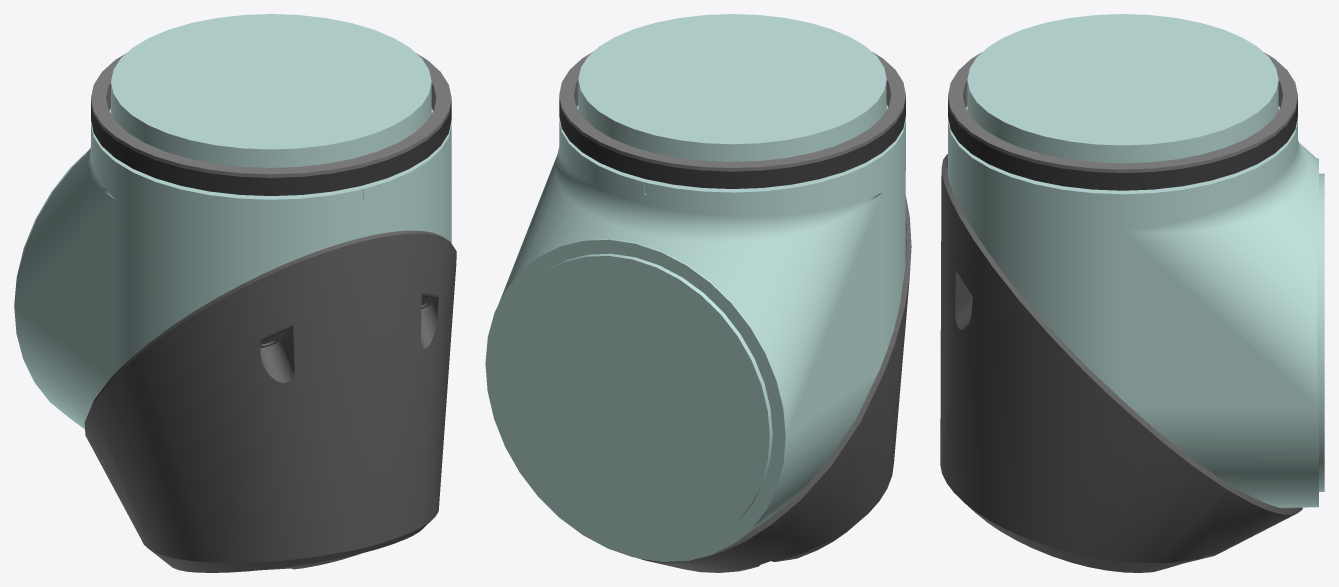
The picture shows the model from 3 angles, left to right: view 1: azimuth 30°, elevation 25°; view 2: azimuth 150°, elevation 25°; view 3: azimuth 270°, elevation 25°; orthographic projection. The views are drawn at different scales.
Visible parts, largest first — view 1: RB16-900E_LINK4:1; view 2: RB16-900E_LINK4:1; view 3: RB16-900E_LINK4:1.
Part boxes in pixels (x1,y1,x2,y2): RB16-900E_LINK4:1: [14, 14, 456, 572]; RB16-900E_LINK4:1: [485, 14, 911, 572]; RB16-900E_LINK4:1: [940, 14, 1324, 572].
Bounding box in the file's own units: 0.0922 × 0.0988 × 0.1317.
